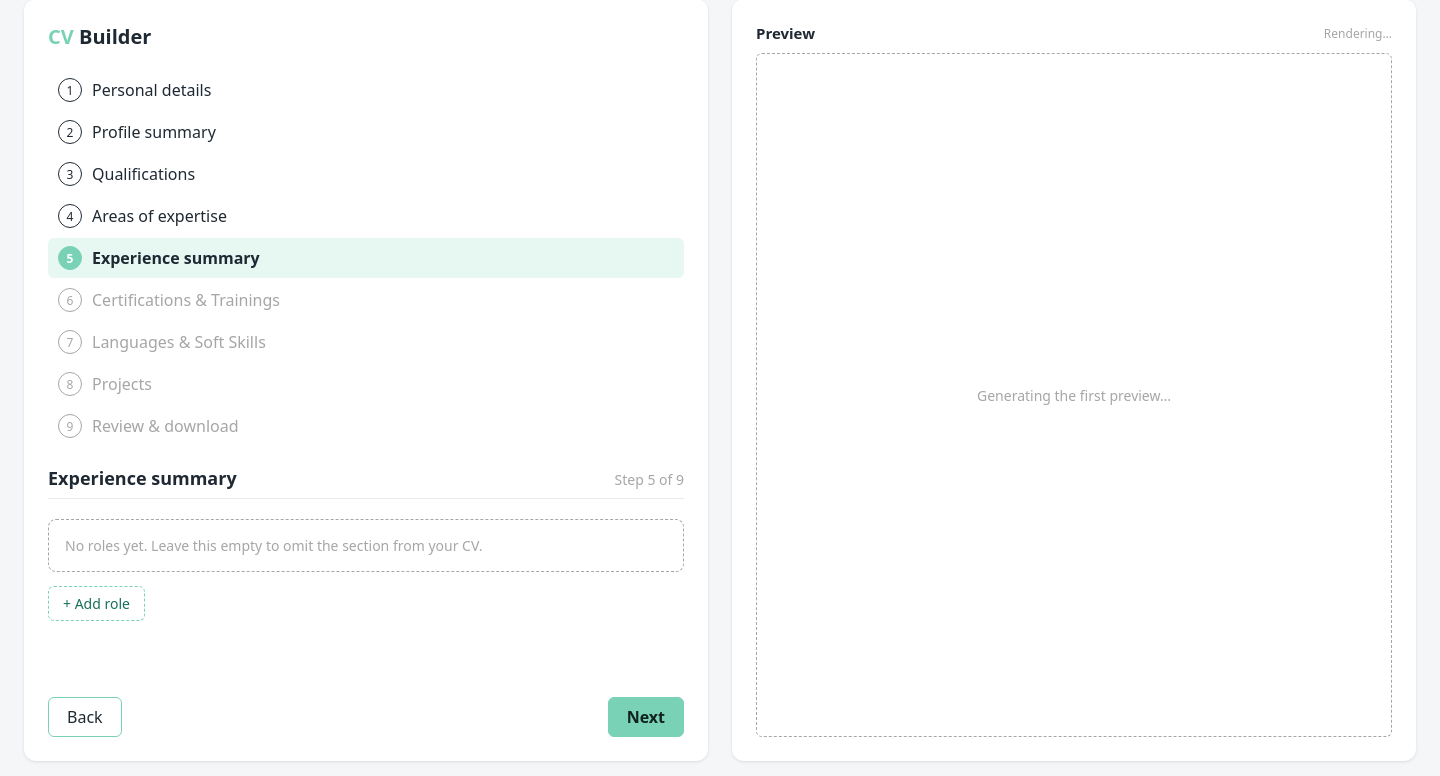
experience step › marking a role current disables the end date
Click the button "+ Add role": (96, 604) [48,586,145,621]
(page scrolled)
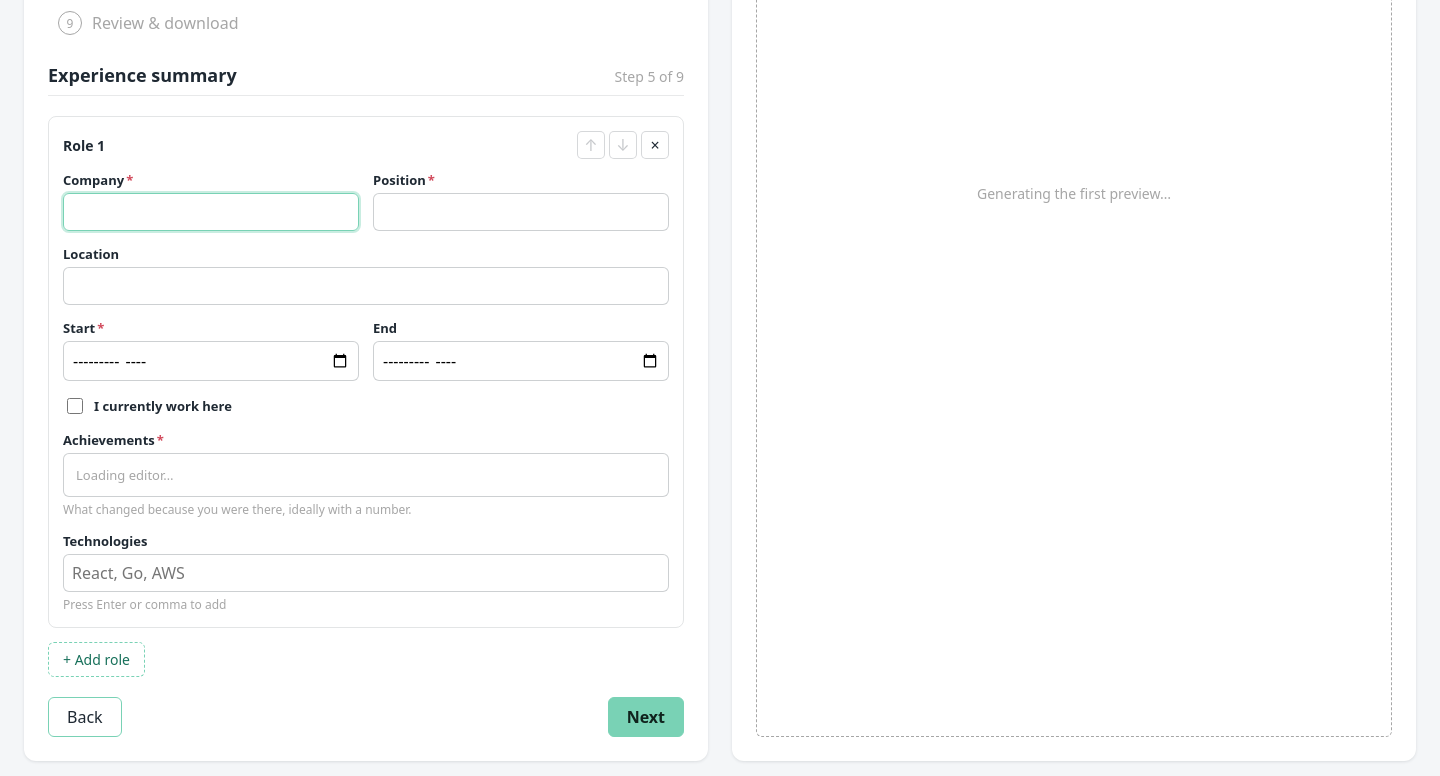
Check: the field labelled "End" is enabled, box [373,341,669,381]
Click the checkbox labelled "I currently work here": (75, 406) [67,398,83,414]
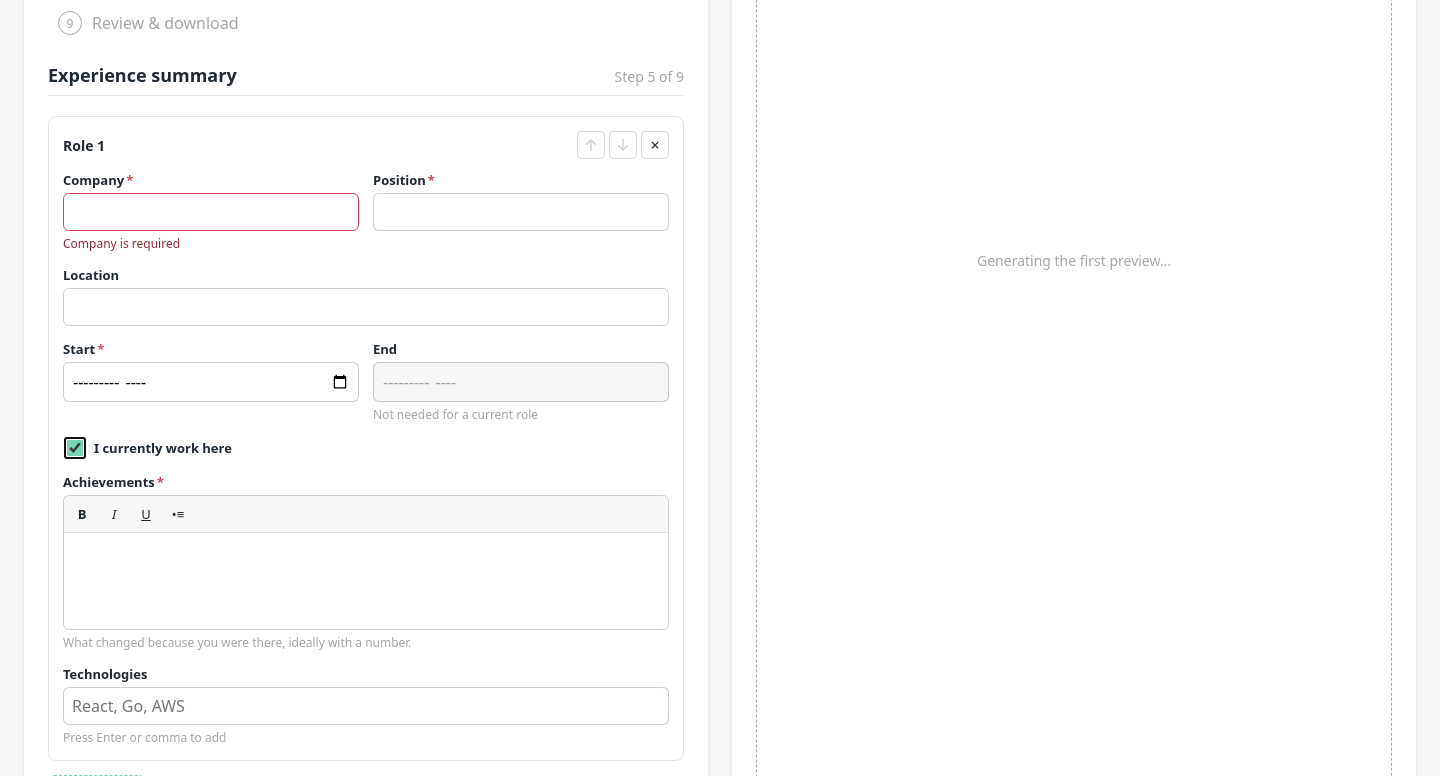
Check: the field labelled "End" is disabled, box [373,362,669,402]
